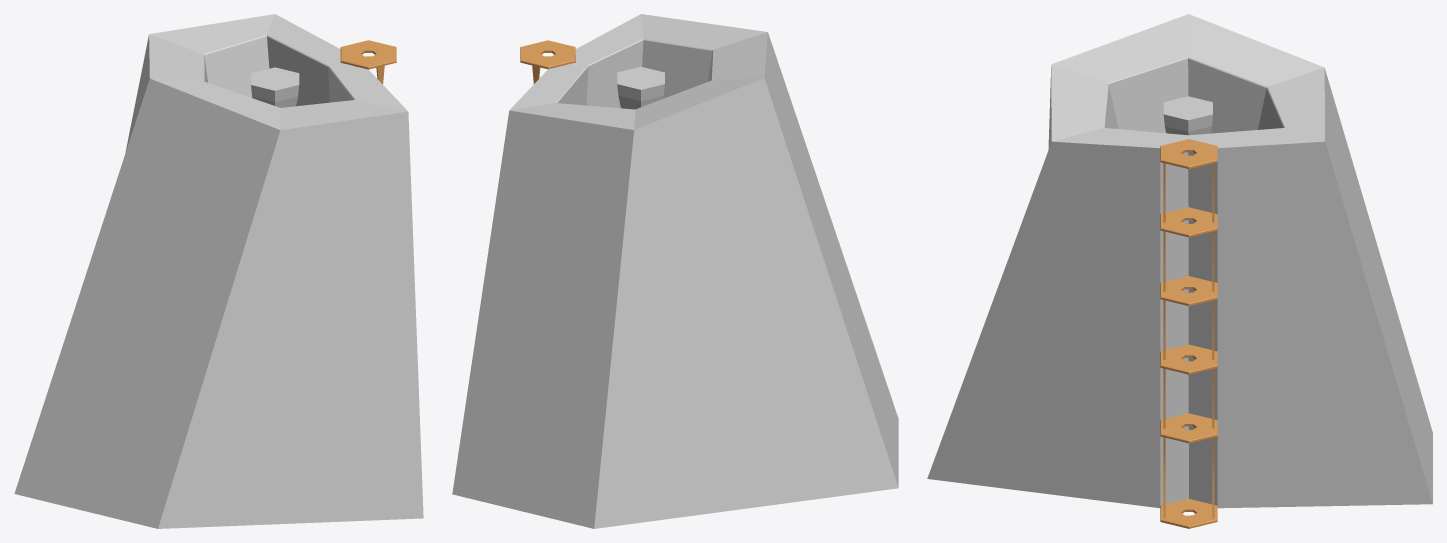
Rendered from Cliff.fbx.
The picture shows the model from 3 angles, left to right: view 1: azimuth 30°, elevation 25°; view 2: azimuth 150°, elevation 25°; view 3: azimuth 270°, elevation 25°; orthographic projection. The views are drawn at different scales.
Visible parts, largest first — view 1: polySurface70; view 2: polySurface70; view 3: polySurface70.
Part boxes in pixels (x1,y1,x2,y2): polySurface70: [14, 14, 423, 528]; polySurface70: [452, 14, 898, 528]; polySurface70: [927, 14, 1432, 528].
Bounding box in the file's own units: 6682 × 6381 × 7464.
